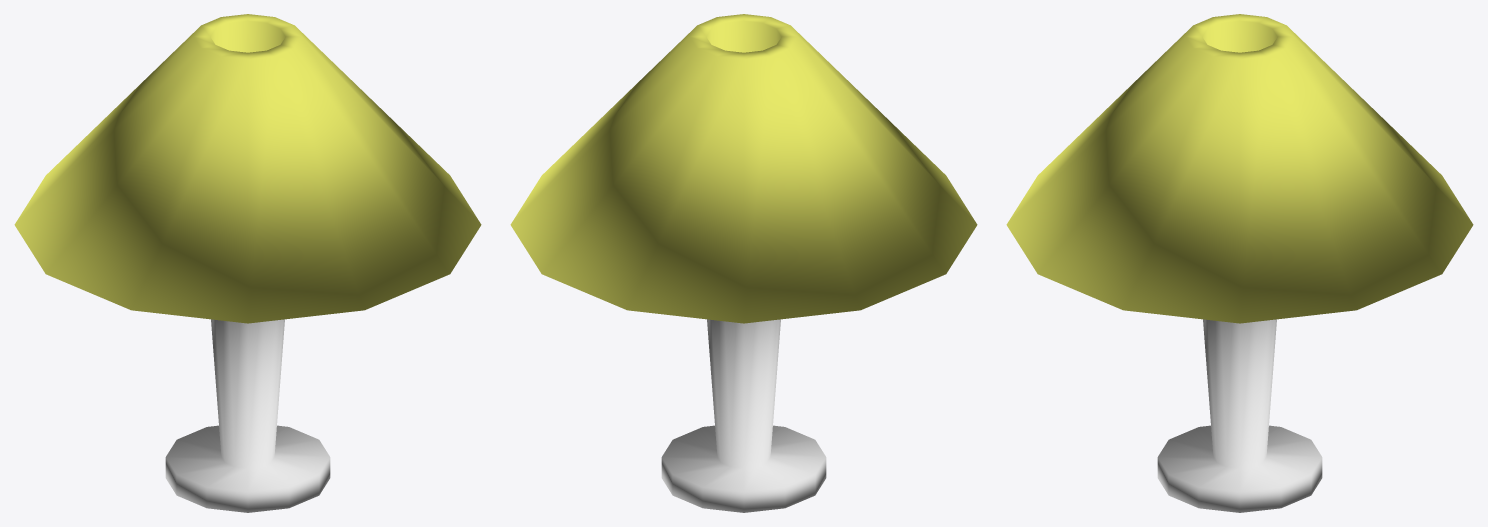
Rendered from lamp.fbx.
3 renders of one model, left to right at view 1: azimuth 30°, elevation 25°; view 2: azimuth 150°, elevation 25°; view 3: azimuth 270°, elevation 25°, orthographic.
Parts seen in each view (by area): view 1: Cylinder; view 2: Cylinder; view 3: Cylinder.
Part boxes in pixels (x1,y1,x2,y2): Cylinder: [14, 14, 481, 512]; Cylinder: [510, 14, 977, 512]; Cylinder: [1006, 14, 1473, 512].
Size of the model in its own units: 279 by 291 by 279.
